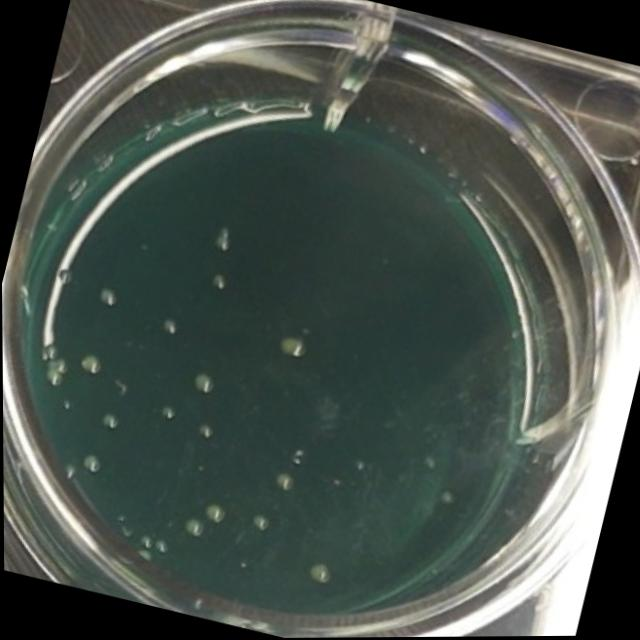vibrio: (271, 328, 312, 367), (303, 556, 341, 591), (183, 365, 218, 397), (40, 358, 70, 389), (153, 309, 183, 339), (267, 468, 298, 497), (244, 509, 275, 537), (77, 448, 106, 477), (74, 349, 105, 375), (202, 500, 231, 527), (93, 283, 119, 313), (203, 266, 230, 293), (212, 223, 238, 251), (192, 419, 218, 444), (50, 264, 76, 287), (40, 340, 64, 364), (182, 513, 204, 538), (158, 401, 181, 423), (97, 408, 120, 428), (136, 533, 154, 549)
